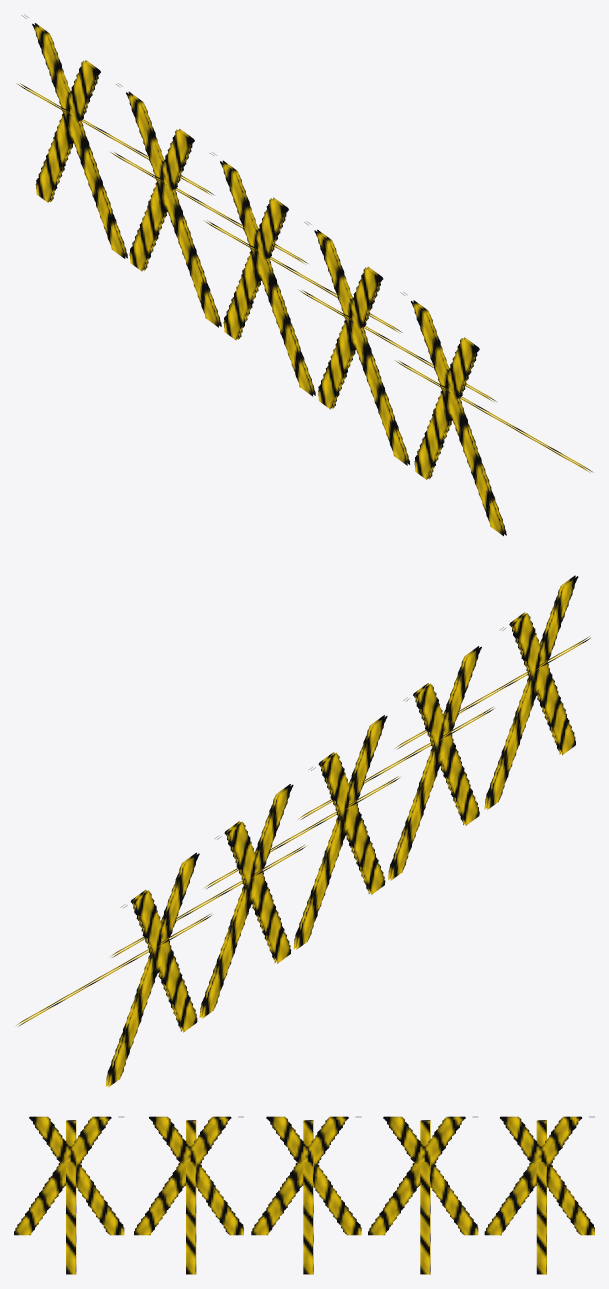
Rendered from tripodbarricade.glb.
The picture shows the model from 3 angles, top to bottom: view 1: azimuth 30°, elevation 25°; view 2: azimuth 150°, elevation 25°; view 3: azimuth 270°, elevation 25°; orthographic projection. The views are drawn at different scales.
Parts seen in each view (by area): view 1: Barricade; view 2: Barricade; view 3: Barricade.
Boxes of the visible parts, x1,y1,x2,y2 form: Barricade: [16, 14, 593, 536]; Barricade: [16, 575, 591, 1087]; Barricade: [14, 1116, 594, 1274].
Bounding box in the file's own units: 2.01 × 1.81 × 8.39.
1 material, 1 textured.
